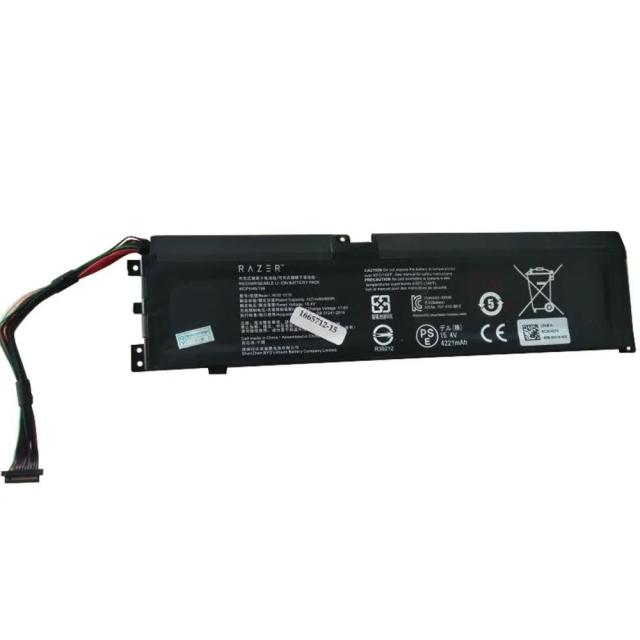electronic: (5, 65, 640, 639)
